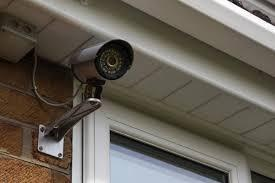Security camera: (36, 37, 134, 159), (69, 37, 134, 85)
